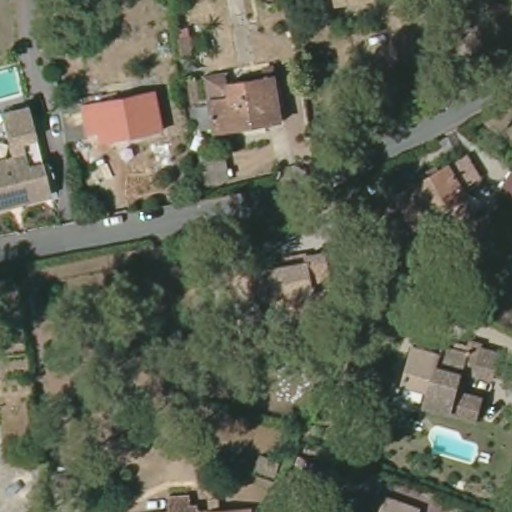pool: (427, 426, 496, 465), (1, 61, 27, 104)
